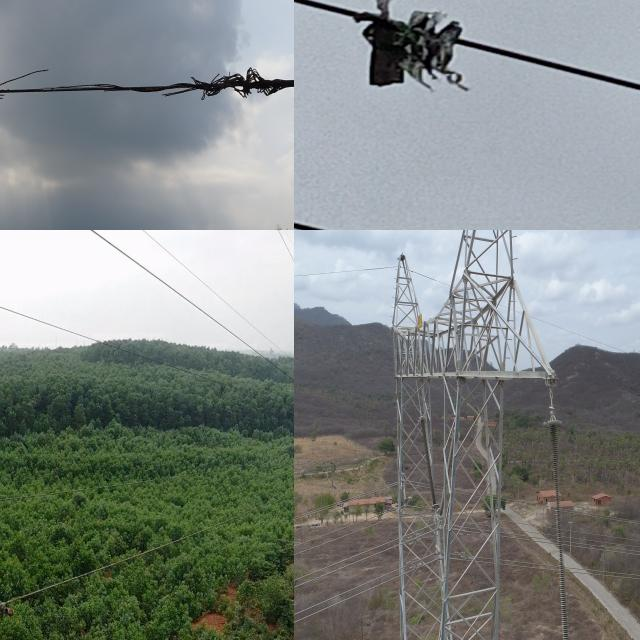杆塔: (397, 230, 554, 640)
植被遮挡: (345, 0, 489, 92)
正常电缆: (0, 480, 294, 615), (0, 299, 294, 415), (79, 230, 294, 388), (294, 575, 397, 624), (294, 568, 397, 617), (294, 544, 397, 590), (294, 537, 396, 582), (294, 515, 396, 557), (294, 507, 395, 548), (294, 486, 391, 521), (135, 230, 178, 266), (270, 230, 294, 276), (573, 546, 640, 558), (575, 541, 640, 553), (582, 571, 640, 582)
正常绝缘子: (544, 409, 577, 640), (418, 415, 441, 509)
电缆破损: (0, 43, 283, 125)
